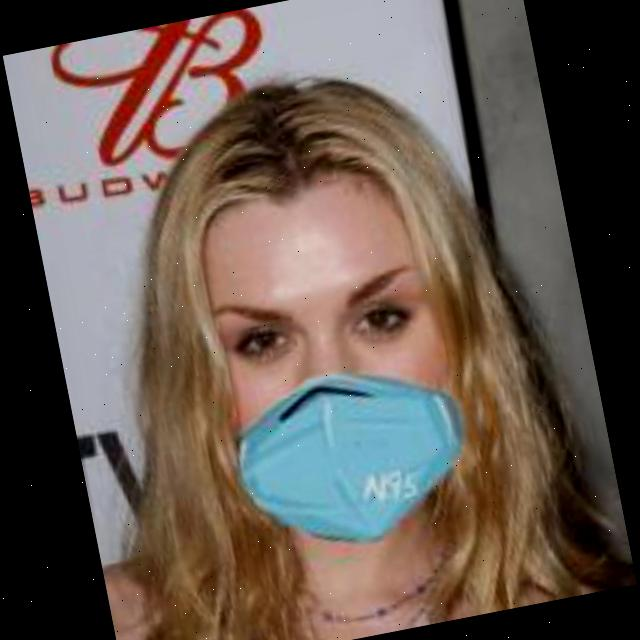suspicion: (170, 142, 534, 545)
